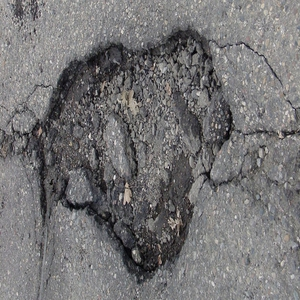pothole: (25, 23, 245, 290)
